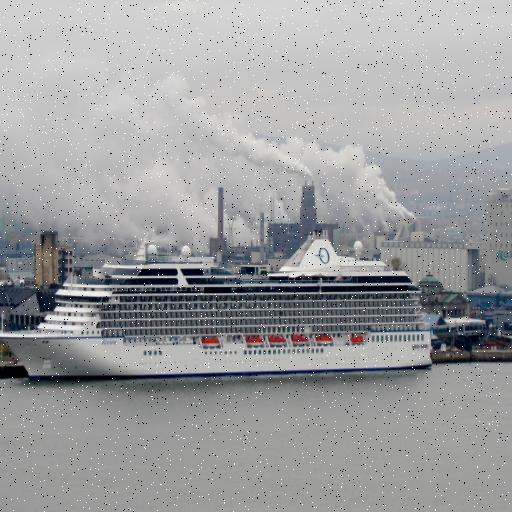cruises: (1, 226, 435, 387)
